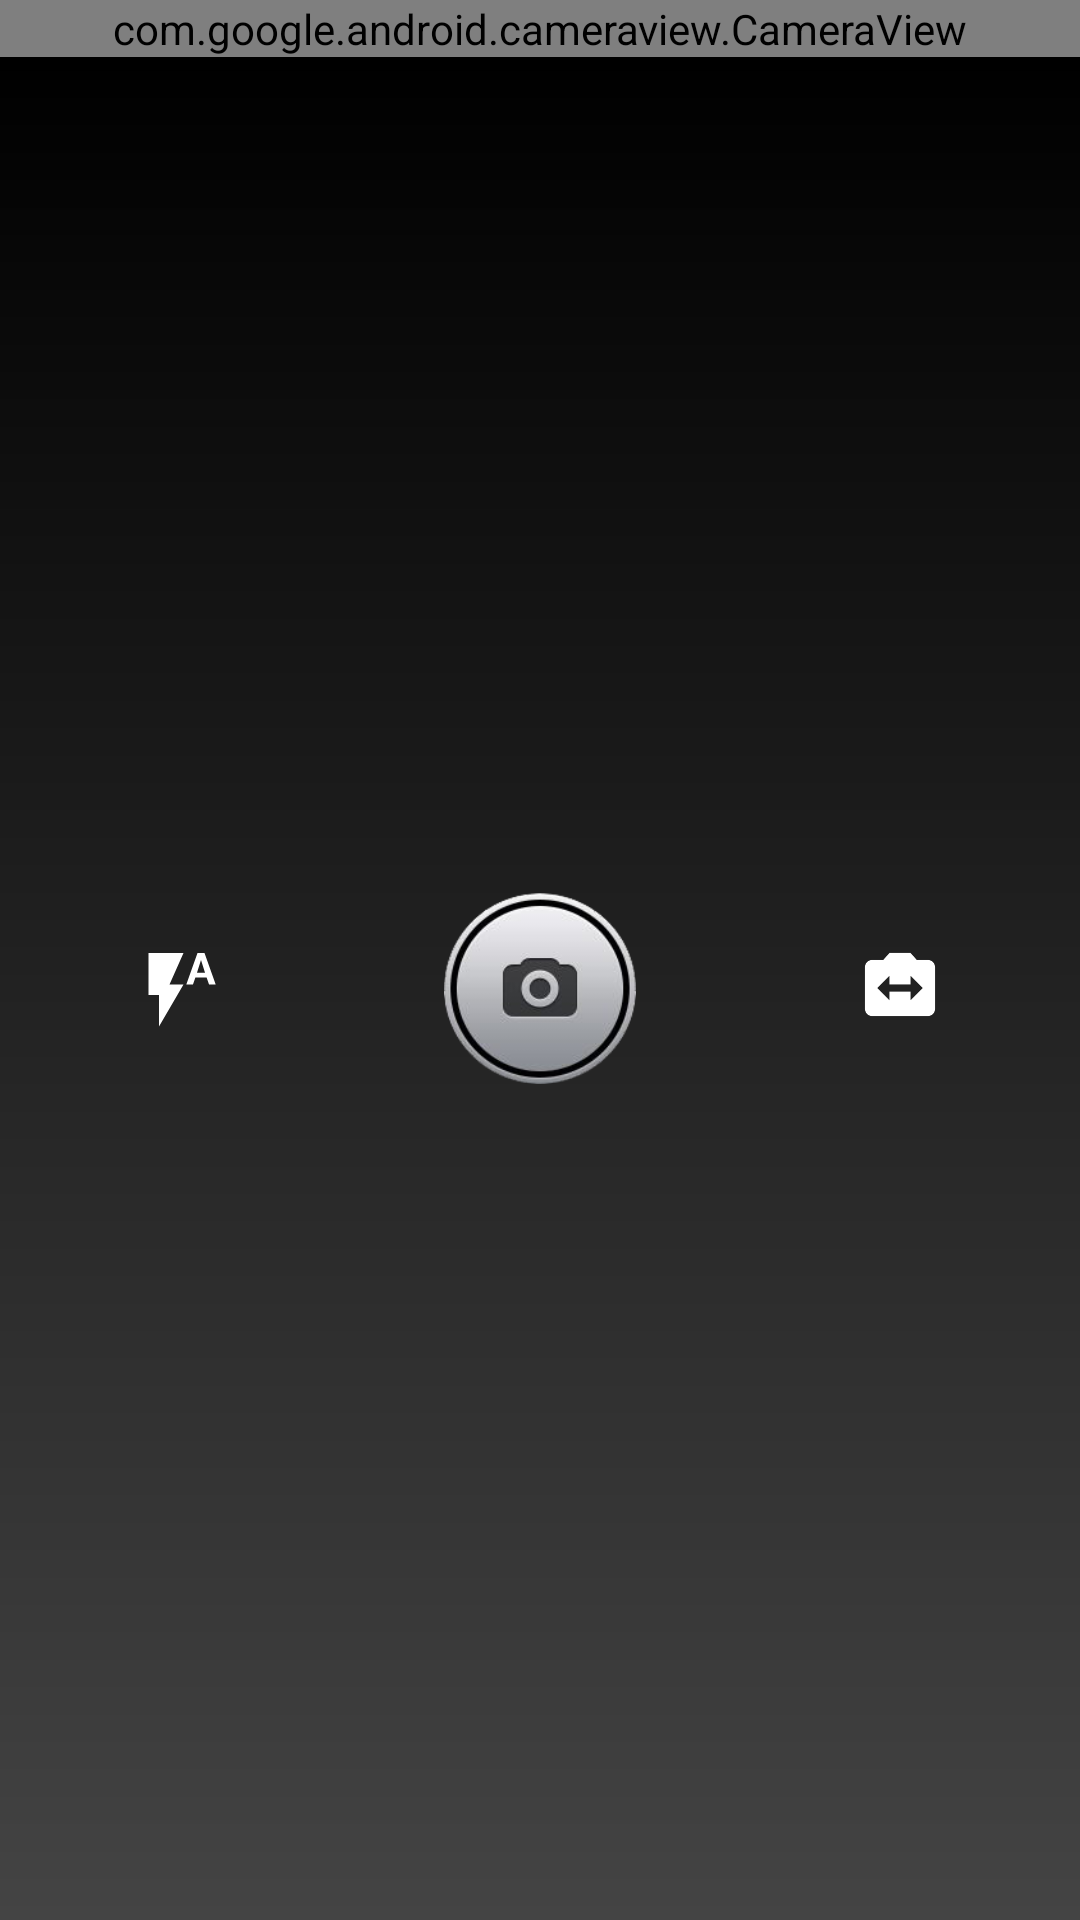

Point at icon controls on the screen. Image size 1080 × 1920, points as [x,y].
capture: [540,988]
flash auto: [182,989]
switch camera: [900,984]
